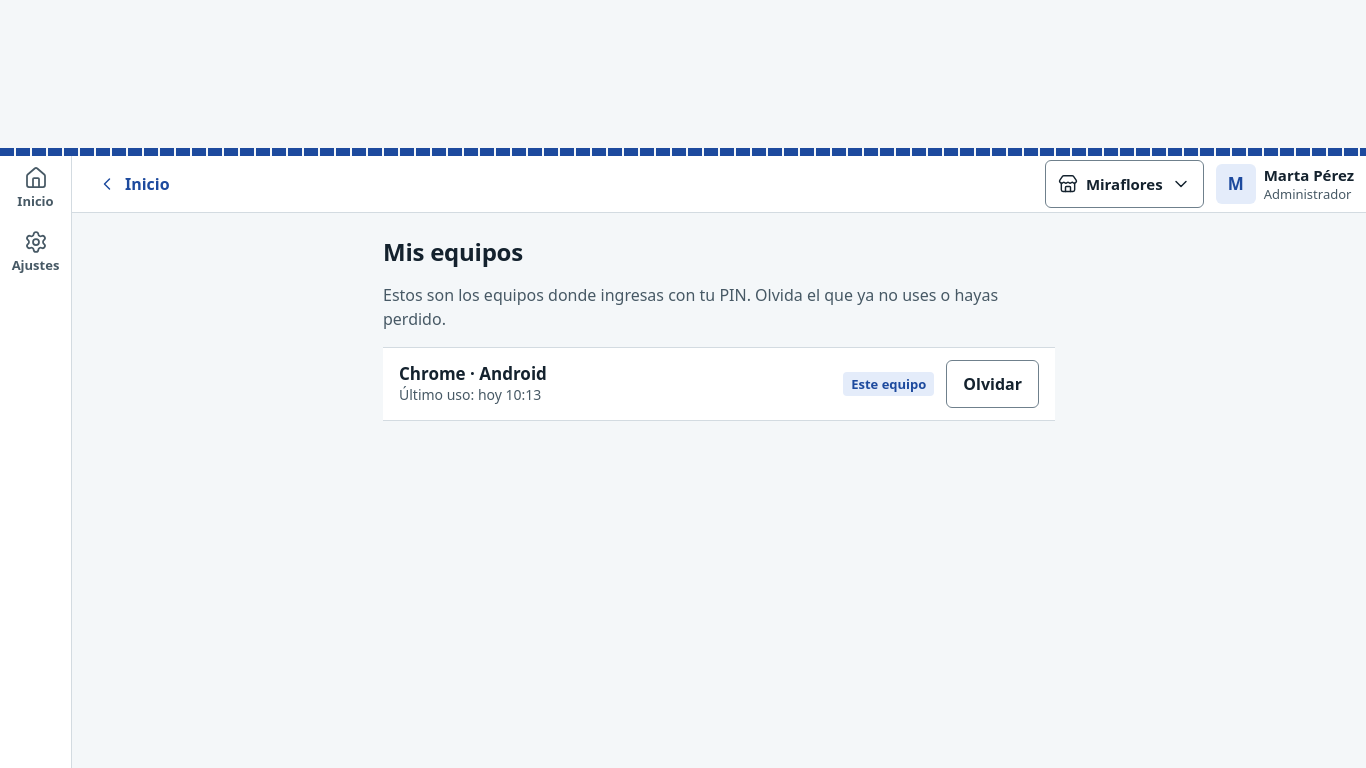
Scenario: Mis equipos (criterio 97) › olvidar el equipo de esta sesión la cierra y vuelve a la pantalla de PIN
(page scrolled)
Expected: the list named "Mis equipos" is shown, [383,347,1055,421]
Click the button named "Olvidar Chrome · Android": (993, 384) [946,360,1039,408]
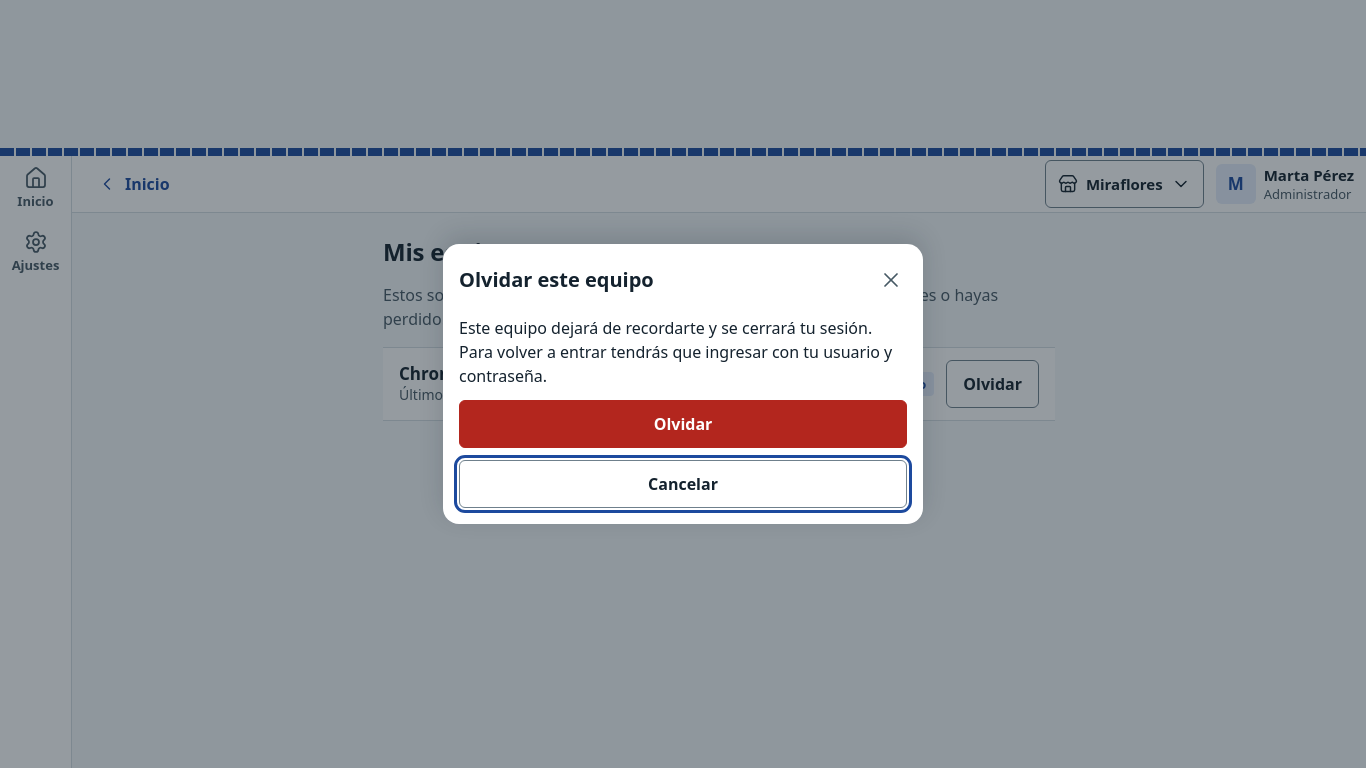
Expected: the dialog "Olvidar este equipo" shows "se cerrará tu sesión", [459,317,892,387]
Click the button "Olvidar": (683, 424) [459,400,907,448]
(page scrolled)
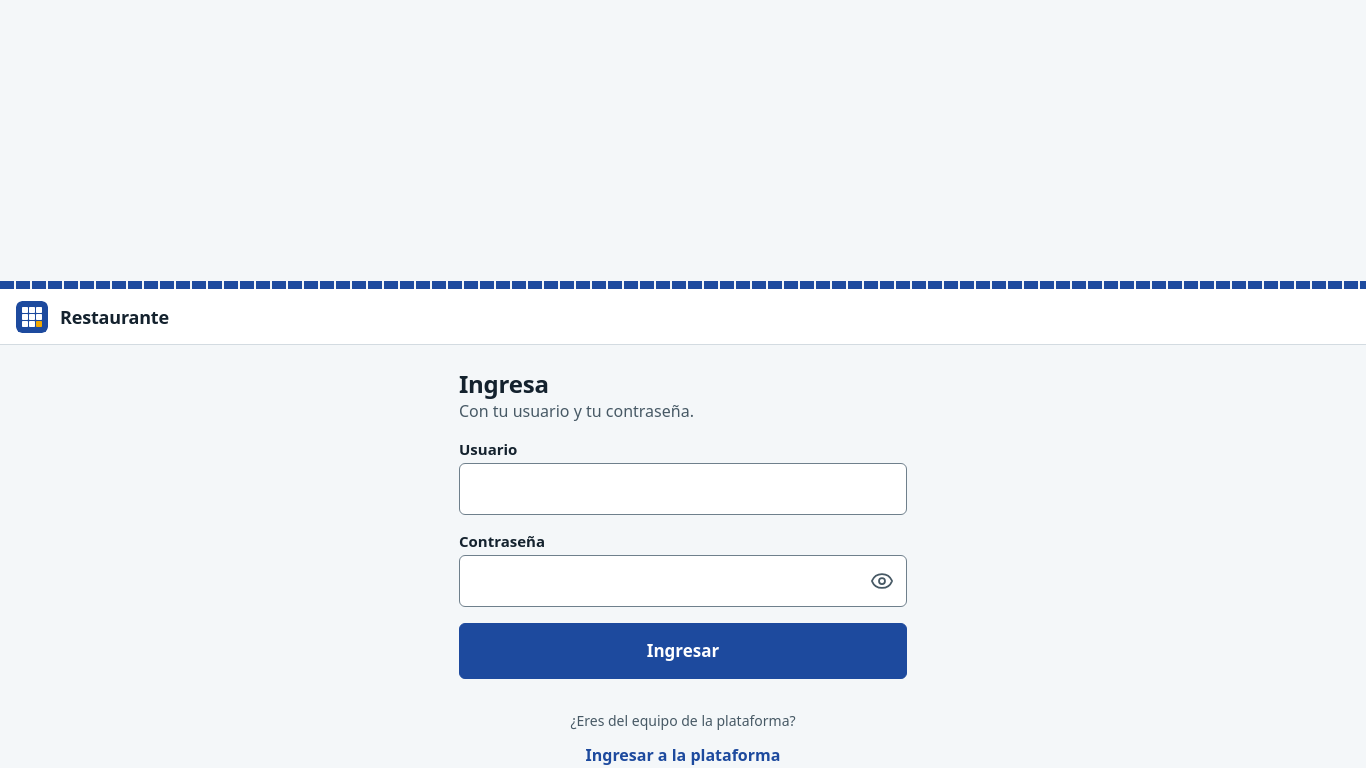
Expected: the heading "Ingresa" is shown, [459,367,549,400]
